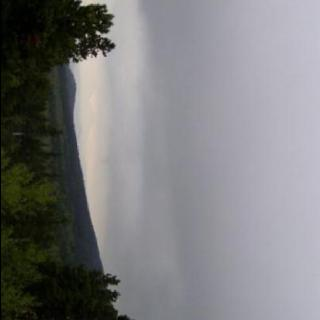Nimbostratus: (109, 0, 320, 320)
